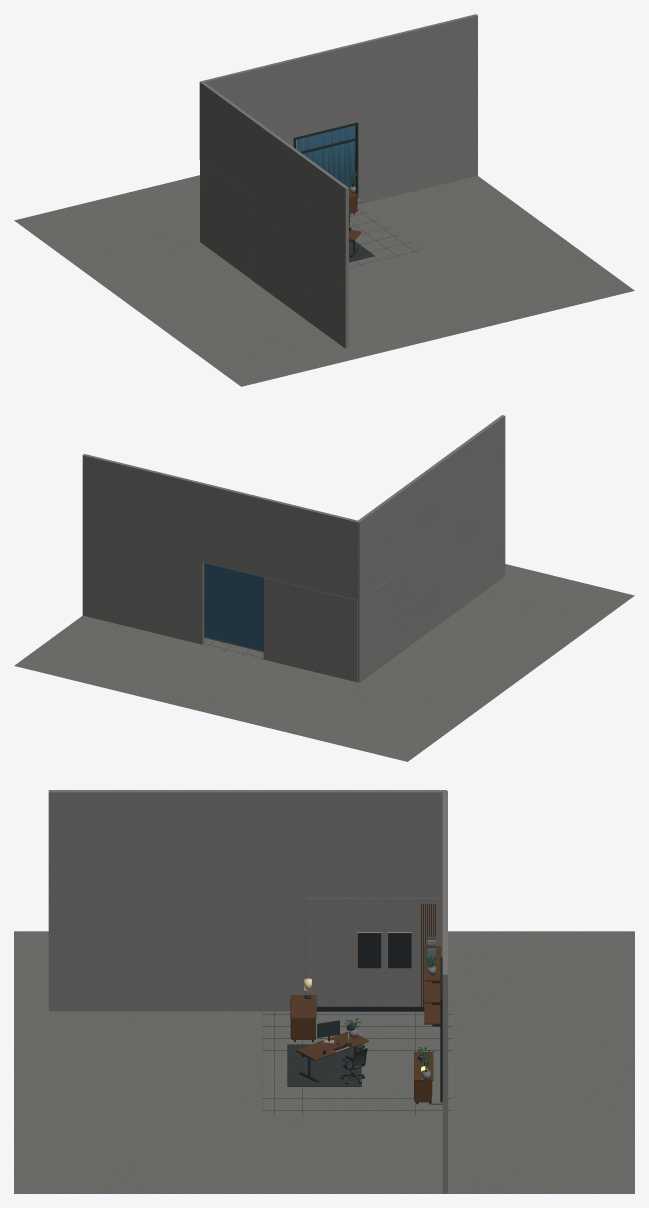
Rendered from room-lit-packed.glb.
3 views of the same model, one above another, from view 1: azimuth 30°, elevation 25°; view 2: azimuth 150°, elevation 25°; view 3: azimuth 270°, elevation 25° (orthographic). The views are drawn at different scales.
Visible parts, largest first — view 1: Continuous floor, Rear right continuation, Left wall continuation, Upper rear wall, room_detail_Graphite mineral plaster, Left upper wall, room_detail_Honed charcoal stone, room_detail_Blue smoked fluted glazing, room_detail_Powder coated graphite; view 2: Continuous floor, Rear right continuation, Left wall continuation, Upper rear wall, room_detail_Graphite mineral plaster, room_detail_Blue smoked fluted glazing, Left upper wall, room_detail_Honed charcoal stone; view 3: Continuous floor, Left wall continuation, Left upper wall, room_detail_Honed charcoal stone, room_detail_Graphite mineral plaster, room_detail_Powder coated graphite, room_detail_Walnut • satin oiled end grain, Woven studio rug, Rear right continuation, record_console, desk, Upper rear wall.
Part boxes in pixels (left/top/right/bottom): Continuous floor: left=14, top=175, right=634, bottom=386; Rear right continuation: left=356, top=14, right=477, bottom=204; Left wall continuation: left=251, top=119, right=348, bottom=348; Upper rear wall: left=201, top=43, right=357, bottom=140; room_detail_Graphite mineral plaster: left=200, top=138, right=296, bottom=279; Left upper wall: left=199, top=81, right=254, bottom=197; room_detail_Honed charcoal stone: left=199, top=197, right=424, bottom=271; room_detail_Blue smoked fluted glazing: left=297, top=125, right=355, bottom=190; room_detail_Powder coated graphite: left=293, top=122, right=421, bottom=267; Continuous floor: left=14, top=564, right=634, bottom=761; Rear right continuation: left=82, top=454, right=204, bottom=644; Left wall continuation: left=408, top=415, right=505, bottom=644; Upper rear wall: left=202, top=483, right=358, bottom=600; room_detail_Graphite mineral plaster: left=263, top=563, right=411, bottom=682; room_detail_Blue smoked fluted glazing: left=204, top=563, right=263, bottom=650; Left upper wall: left=356, top=484, right=411, bottom=600; room_detail_Honed charcoal stone: left=199, top=636, right=358, bottom=683; Continuous floor: left=14, top=931, right=634, bottom=1193; Left wall continuation: left=48, top=790, right=305, bottom=1011; Left upper wall: left=305, top=790, right=446, bottom=898; room_detail_Honed charcoal stone: left=262, top=1010, right=451, bottom=1114; room_detail_Graphite mineral plaster: left=305, top=898, right=442, bottom=1006; room_detail_Powder coated graphite: left=262, top=933, right=451, bottom=1114; room_detail_Walnut • satin oiled end grain: left=414, top=903, right=441, bottom=1102; Woven studio rug: left=287, top=1044, right=361, bottom=1086; Rear right continuation: left=442, top=894, right=447, bottom=1193; record_console: left=290, top=995, right=316, bottom=1041; desk: left=296, top=1032, right=368, bottom=1082; Upper rear wall: left=442, top=791, right=447, bottom=894.
Size of the model in its own units: 18 by 7.16 by 18.
18 materials, 4 textured.
